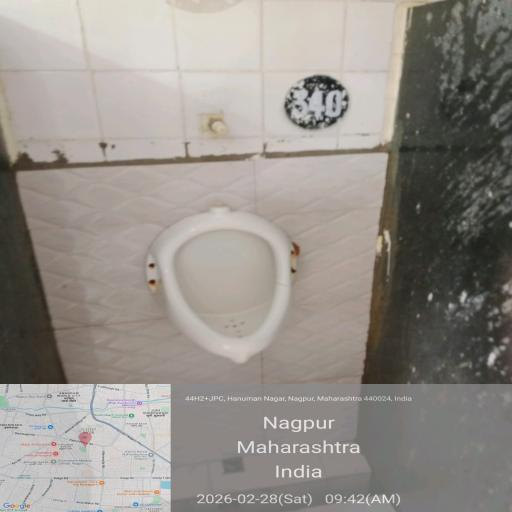clean_floor: (18, 12, 512, 170), (62, 343, 460, 512)
clean_urinal: (134, 186, 306, 366)
